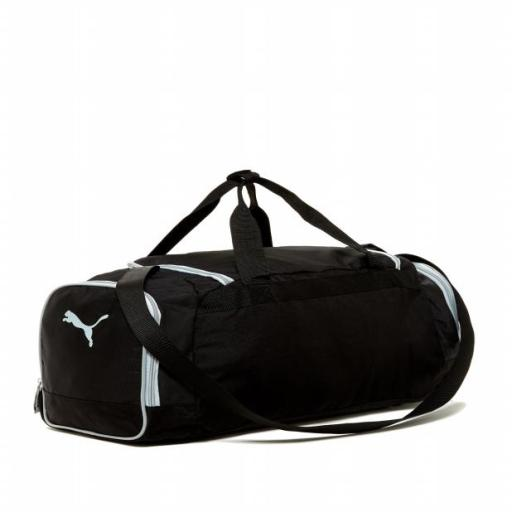Puma: (62, 306, 111, 348)
